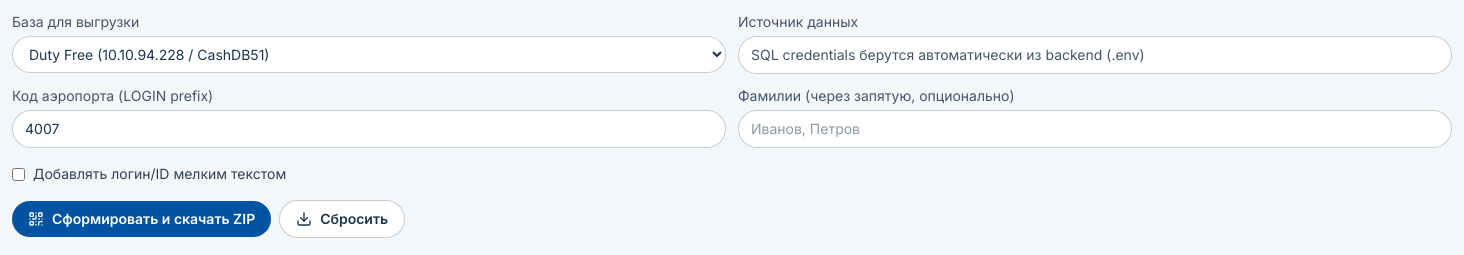
Test: OneCQrPanel › resets form fields to defaults
In the field with placeholder "4007": (369, 129) [12,110,726,148], type "4999"
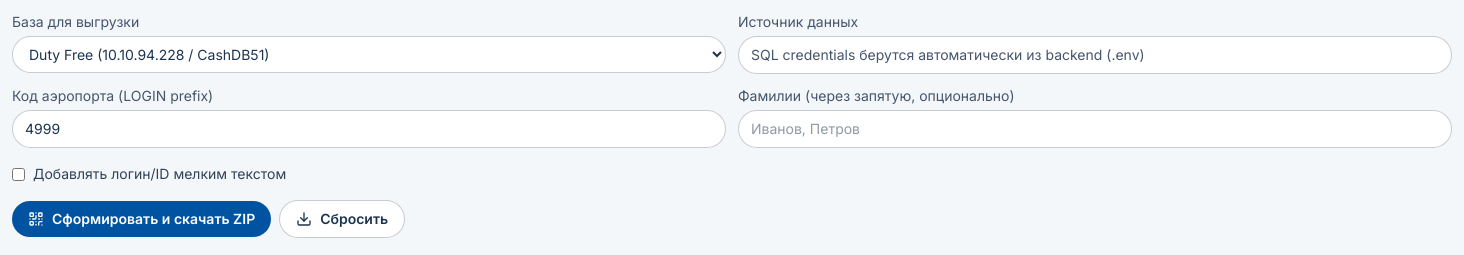
In the field with placeholder "Иванов, Петров": (1095, 129) [738,110,1452,148], type "Петров"
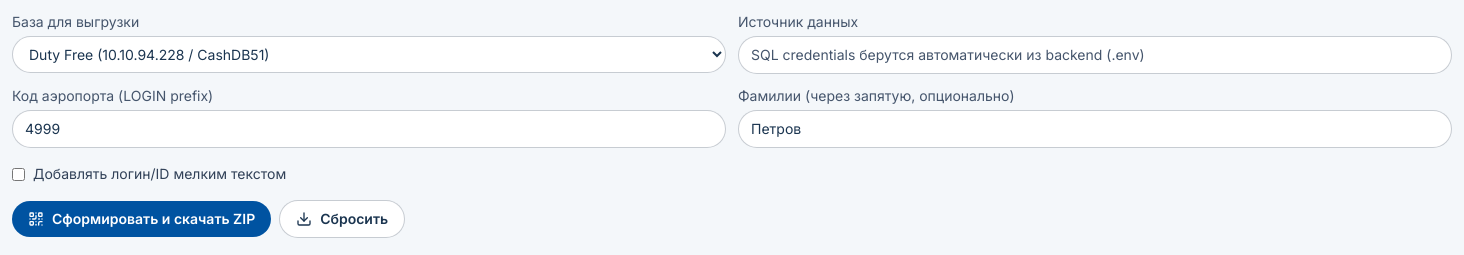
Click the checkbox labelled "Добавлять логин/ID мелким текстом": (18, 174) [12,168,25,180]
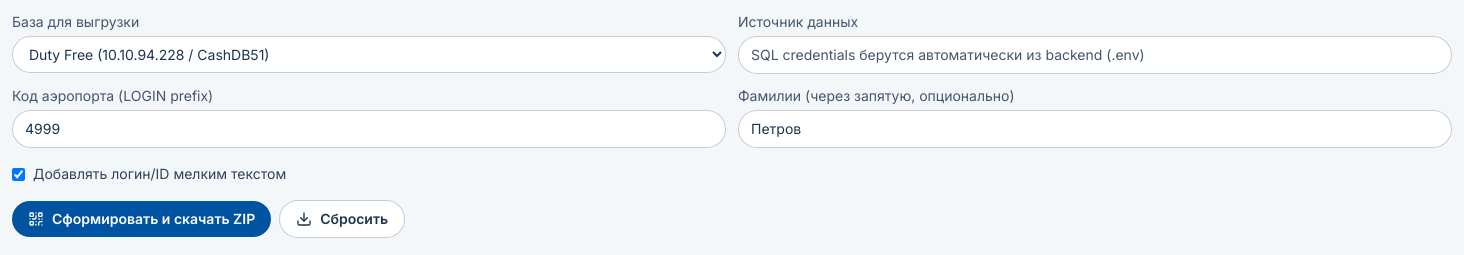
Click the button "Сбросить": (342, 219) [279,200,405,238]
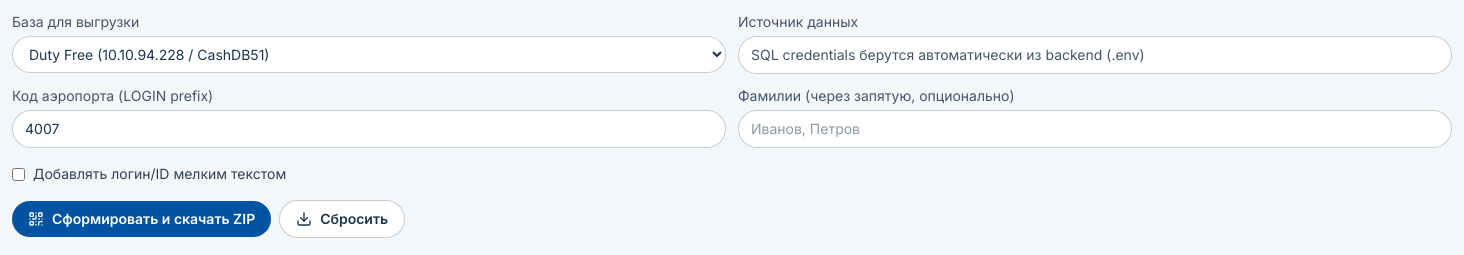
Expected: the checkbox labelled "Добавлять логин/ID мелким текстом" is not checked, [12,168,25,180]
Expected: the field with placeholder "4007" holds "4007", [12,110,726,148]
Expected: the field with placeholder "Иванов, Петров" is empty, [738,110,1452,148]
